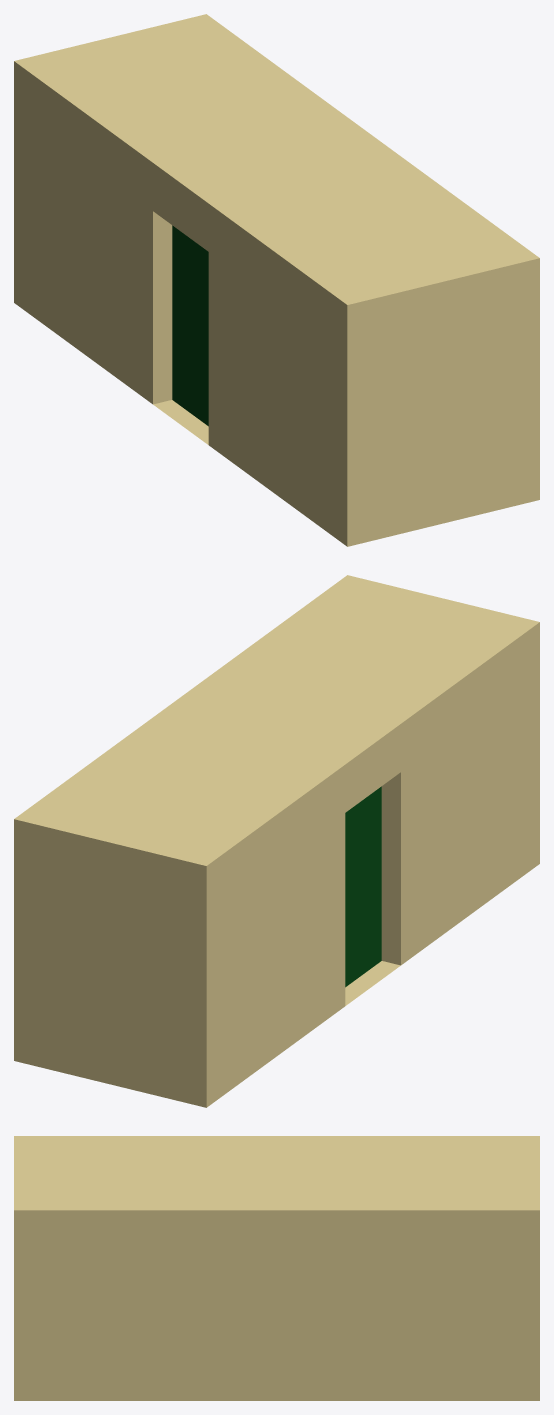
Rendered from FirstFloorWalled.fbx.
3 views of the same model, one above another, from view 1: azimuth 30°, elevation 25°; view 2: azimuth 150°, elevation 25°; view 3: azimuth 270°, elevation 25° (orthographic). The views are drawn at different scales.
Visible parts, largest first — view 1: wall block.002, door block.002, wall block.001; view 2: wall block.001, door block.002, wall block.002; view 3: door block.002, wall block.001, wall block.002.
Boxes of the visible parts, left/top/right/bottom form: wall block.002: left=236, top=177, right=539, bottom=546; door block.002: left=125, top=95, right=428, bottom=464; wall block.001: left=14, top=14, right=317, bottom=383; wall block.001: left=14, top=738, right=317, bottom=1107; door block.002: left=125, top=656, right=428, bottom=1025; wall block.002: left=236, top=575, right=539, bottom=944; door block.002: left=189, top=1136, right=364, bottom=1400; wall block.001: left=364, top=1136, right=539, bottom=1400; wall block.002: left=14, top=1136, right=189, bottom=1400.
Bounding box in the file's own units: 1000 × 1200 × 3000.
